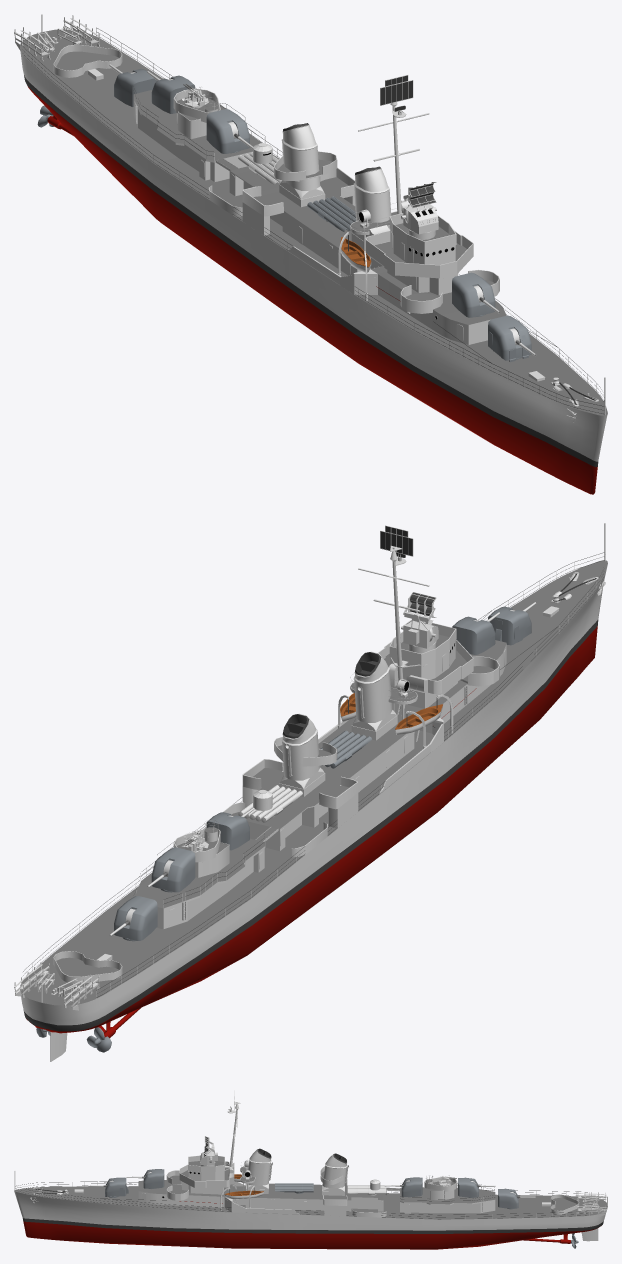
Rendered from cruiser.glb.
3 renders of one model, top to bottom at view 1: azimuth 30°, elevation 25°; view 2: azimuth 150°, elevation 25°; view 3: azimuth 270°, elevation 25°, orthographic. The views are drawn at different scales.
Parts seen in each view (by area): view 1: dd_fletcher_hull, dd_fletcher_superstructure, dd_fletcher_turretmain, dd_fletcher_turretmain.002, dd_fletcher_director, dd_fletcher_turretmain.001, dd_fletcher_turretmain.004, dd_torpedolauncher, dd_torpedolauncher_aft, dd_fletcher_turretmain.003, dd_fletcher_radar; view 2: dd_fletcher_hull, dd_fletcher_superstructure, dd_fletcher_director, dd_fletcher_turretmain.003, dd_fletcher_turretmain.004, dd_torpedolauncher_aft, dd_fletcher_turretmain, dd_fletcher_turretmain.001, dd_fletcher_turretmain.002, dd_torpedolauncher, dd_fletcher_radar; view 3: dd_fletcher_hull, dd_fletcher_superstructure, dd_torpedolauncher_aft, dd_fletcher_turretmain, dd_fletcher_turretmain.001, dd_fletcher_turretmain.002, dd_fletcher_turretmain.003, dd_fletcher_turretmain.004, dd_torpedolauncher, dd_fletcher_director.
Part boxes in pixels (x1,y1,x2,y2): dd_fletcher_hull: (20, 27, 607, 494); dd_fletcher_superstructure: (14, 14, 605, 415); dd_fletcher_turretmain: (488, 315, 531, 362); dd_fletcher_turretmain.002: (206, 109, 249, 153); dd_fletcher_director: (401, 182, 438, 234); dd_fletcher_turretmain.001: (452, 272, 495, 317); dd_fletcher_turretmain.004: (114, 69, 157, 106); dd_torpedolauncher: (307, 196, 355, 231); dd_torpedolauncher_aft: (238, 143, 281, 184); dd_fletcher_turretmain.003: (151, 75, 195, 113); dd_fletcher_radar: (380, 75, 413, 105); dd_fletcher_hull: (20, 552, 607, 1037); dd_fletcher_superstructure: (14, 523, 605, 1010); dd_fletcher_director: (401, 592, 438, 648); dd_fletcher_turretmain.003: (151, 847, 195, 892); dd_fletcher_turretmain.004: (114, 896, 157, 940); dd_torpedolauncher_aft: (238, 785, 302, 822); dd_fletcher_turretmain: (488, 606, 531, 645); dd_fletcher_turretmain.001: (452, 616, 495, 654); dd_fletcher_turretmain.002: (206, 812, 249, 850); dd_torpedolauncher: (320, 730, 371, 768); dd_fletcher_radar: (380, 525, 413, 556); dd_fletcher_hull: (14, 1181, 607, 1249); dd_fletcher_superstructure: (14, 1102, 607, 1217); dd_torpedolauncher_aft: (347, 1179, 386, 1195); dd_fletcher_turretmain: (105, 1177, 128, 1196); dd_fletcher_turretmain.001: (143, 1169, 164, 1188); dd_fletcher_turretmain.002: (401, 1177, 422, 1196); dd_fletcher_turretmain.003: (458, 1177, 478, 1197); dd_fletcher_turretmain.004: (498, 1188, 518, 1208); dd_torpedolauncher: (275, 1183, 313, 1193); dd_fletcher_director: (200, 1136, 217, 1165).
Size of the model in its own units: 11.48 by 31.41 by 115.
